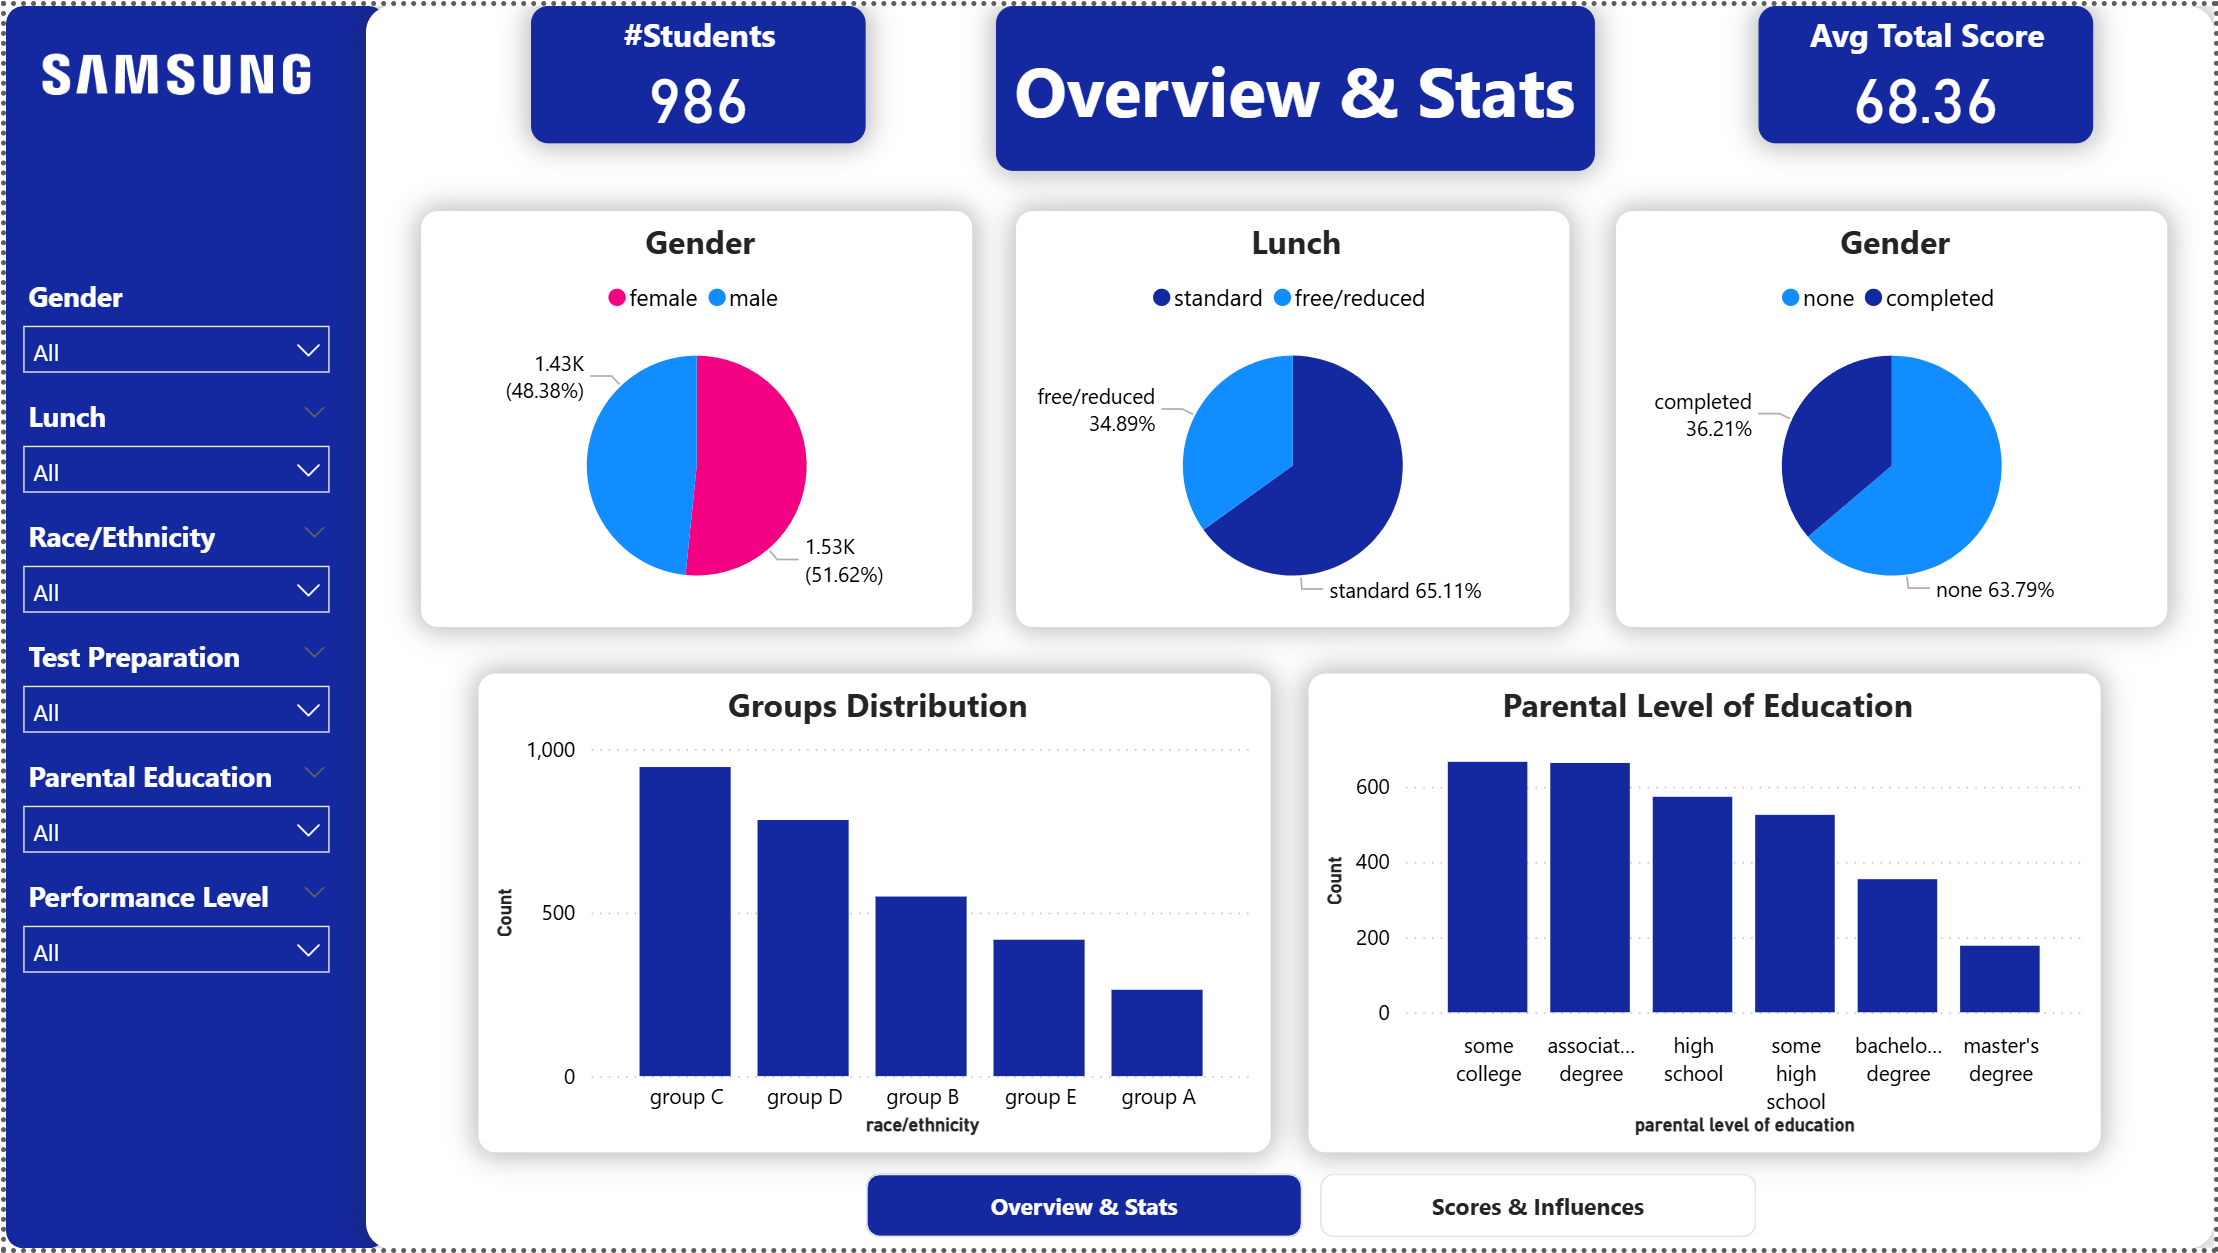

The dashboard page shown, as its layout file describes it:
{"tool":"powerbi","page":{"name":"Overview","canvas":[1280,720],"ordinal":0},"visuals":[{"type":"shape","box":[0,0,267.5,720.3],"z":0},{"type":"image","box":[28.6,0,210.2,79.6],"z":1000},{"type":"shape","box":[639.4,0,236.4,79.6],"z":2000},{"type":"slicer","fields":{"Values":["StudentsPerformance_Cleaned_V2.gender"]},"box":[6.2,175.1,256.3,69.7],"z":3000},{"type":"slicer","fields":{"Values":["StudentsPerformance_Cleaned_V2.lunch"]},"box":[6.2,244.8,256.3,69.7],"z":4000},{"type":"slicer","fields":{"Values":["StudentsPerformance_Cleaned_V2.race/ethnicity"]},"box":[6.2,314.5,256.3,69.7],"z":5000},{"type":"slicer","fields":{"Values":["StudentsPerformance_Cleaned_V2.test preparation course"]},"box":[6.2,384.1,256.3,69.7],"z":6000},{"type":"slicer","fields":{"Values":["StudentsPerformance_Cleaned_V2.parental level of education"]},"box":[6.2,453.8,256.3,69.7],"z":7000},{"type":"slicer","fields":{"Values":["StudentsPerformance_Cleaned_V2.Performance_Level"]},"box":[6.2,523.5,256.3,69.7],"z":8000},{"type":"pieChart","title":"Gender","fields":{"Category":["StudentsPerformance_Cleaned_V2.gender"],"Y":["CountNonNull(StudentsPerformance_Cleaned_V2.gender)"]},"box":[267.5,118.2,319.7,241.3],"z":9000},{"type":"card","title":"#Students","fields":{"Values":["CountNonNull(StudentsPerformance_Cleaned_V2.gender)"]},"box":[304.8,0,194.1,79.6],"z":10000},{"type":"card","title":"Avg Total Score","fields":{"Values":["Avg(StudentsPerformance_Cleaned_V2.Total_Score)"]},"box":[1051.1,0,194.1,79.6],"z":11000},{"type":"pieChart","title":"Lunch","fields":{"Category":["StudentsPerformance_Cleaned_V2.lunch"],"Y":["CountNonNull(StudentsPerformance_Cleaned_V2.lunch)"]},"box":[613.3,118.2,320.9,241.3],"z":12000},{"type":"pieChart","title":"Gender","fields":{"Y":["CountNonNull(StudentsPerformance_Cleaned_V2.gender)"],"Category":["StudentsPerformance_Cleaned_V2.test preparation course"]},"box":[960.3,118.2,319.7,241.3],"z":13000},{"type":"clusteredColumnChart","title":"Groups Distribution","fields":{"Category":["StudentsPerformance_Cleaned_V2.race/ethnicity"],"Y":["CountNonNull(StudentsPerformance_Cleaned_V2.race/ethnicity)"]},"box":[304.8,403,459,277.4],"z":13001},{"type":"clusteredColumnChart","title":"Parental Level of Education","fields":{"Y":["CountNonNull(StudentsPerformance_Cleaned_V2.race/ethnicity)"],"Category":["StudentsPerformance_Cleaned_V2.parental level of education"]},"box":[786.2,403,459,277.4],"z":13002}]}

Visuals, with their boxes in screenshot pixels (x1, y1, x2, y2), scaled from the page's 1280x720 canvas onto the 2218x1253 screenshot:
shape: rect(0, 0, 464, 1252)
image: rect(50, 0, 414, 139)
shape: rect(1108, 0, 1518, 139)
slicer - StudentsPerformance_Cleaned_V2.gender: rect(11, 305, 455, 426)
slicer - StudentsPerformance_Cleaned_V2.lunch: rect(11, 426, 455, 547)
slicer - StudentsPerformance_Cleaned_V2.race/ethnicity: rect(11, 547, 455, 669)
slicer - StudentsPerformance_Cleaned_V2.test preparation course: rect(11, 668, 455, 790)
slicer - StudentsPerformance_Cleaned_V2.parental level of education: rect(11, 790, 455, 911)
slicer - StudentsPerformance_Cleaned_V2.Performance_Level: rect(11, 911, 455, 1032)
"Gender" pieChart: rect(464, 206, 1018, 626)
"#Students" card: rect(528, 0, 865, 139)
"Avg Total Score" card: rect(1821, 0, 2158, 139)
"Lunch" pieChart: rect(1063, 206, 1619, 626)
"Gender" pieChart: rect(1664, 206, 2217, 626)
"Groups Distribution" clusteredColumnChart: rect(528, 701, 1324, 1184)
"Parental Level of Education" clusteredColumnChart: rect(1362, 701, 2158, 1184)
